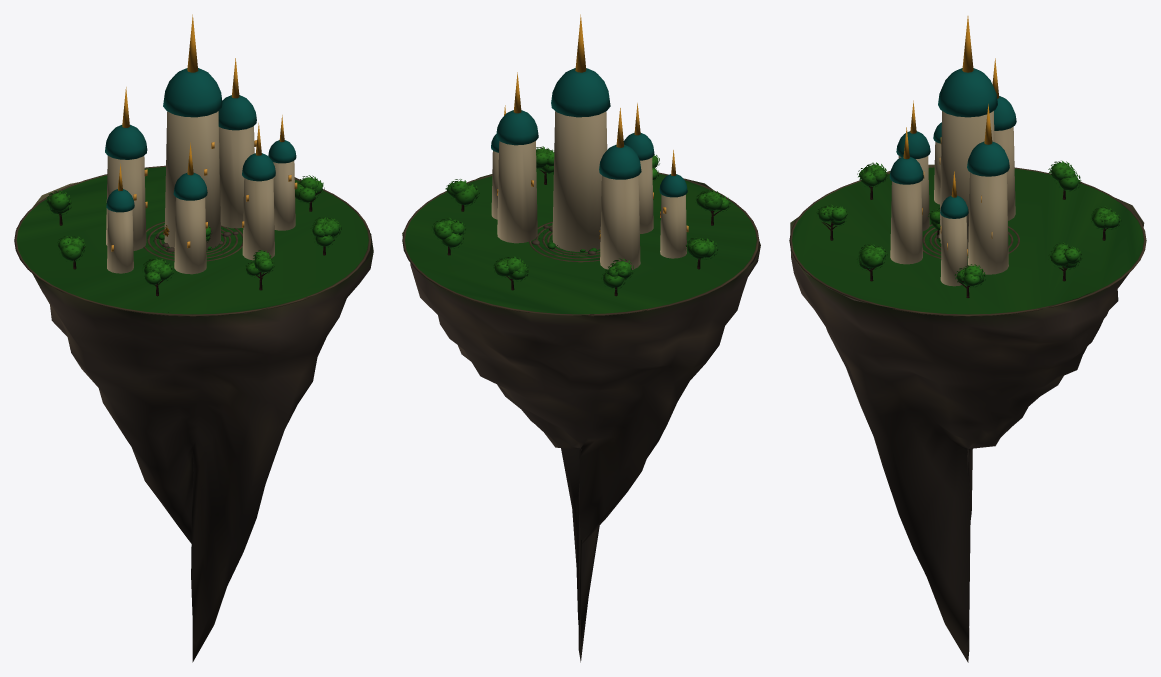
File: world-999e0108.glb
3 views of the same model, side by side, from view 1: azimuth 30°, elevation 25°; view 2: azimuth 150°, elevation 25°; view 3: azimuth 270°, elevation 25° (orthographic).
Parts seen in each view (by area): view 1: citadel, island_3; view 2: citadel, island_3; view 3: citadel, island_3.
Part boxes in pixels (x1,y1,x2,y2): citadel: [14, 14, 373, 662]; island_3: [143, 221, 242, 261]; citadel: [402, 14, 760, 662]; island_3: [529, 221, 600, 262]; citadel: [789, 16, 1146, 662]; island_3: [922, 208, 1019, 261].
Bounding box in the file's own units: 52.44 × 105 × 52.44.
